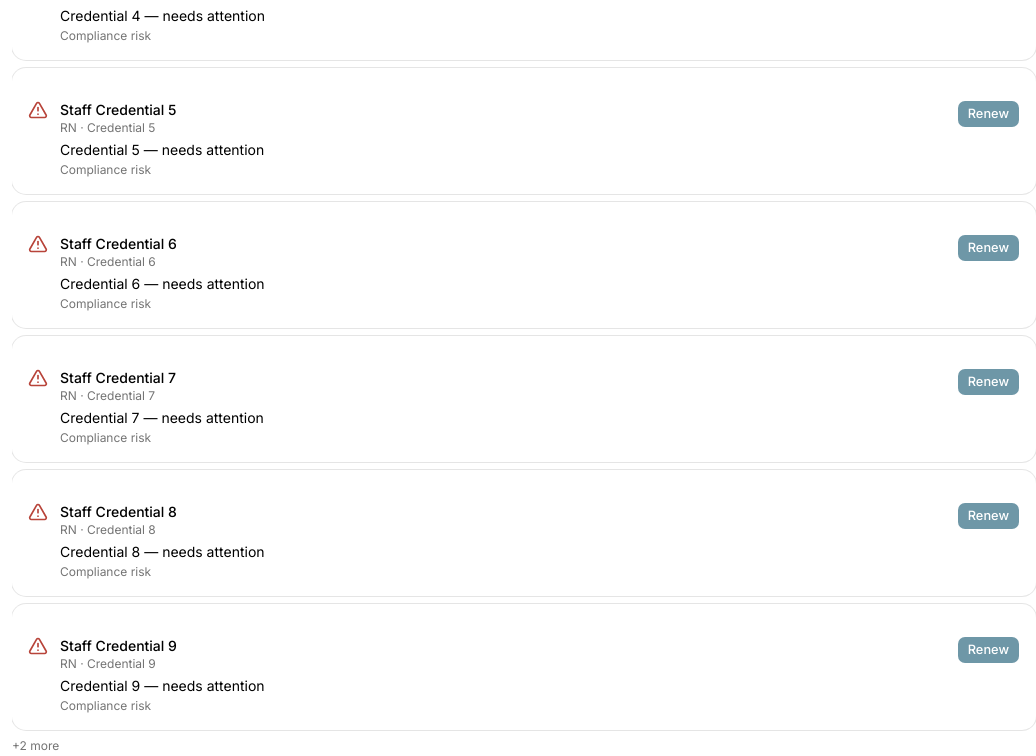
ActionList › caps a group at 10 and expands with +N more, then collapses with Show less
(page scrolled)
Step 1. Click the button "+2 more" → (36, 746), box 12,738 -> 59,754
(page scrolled)
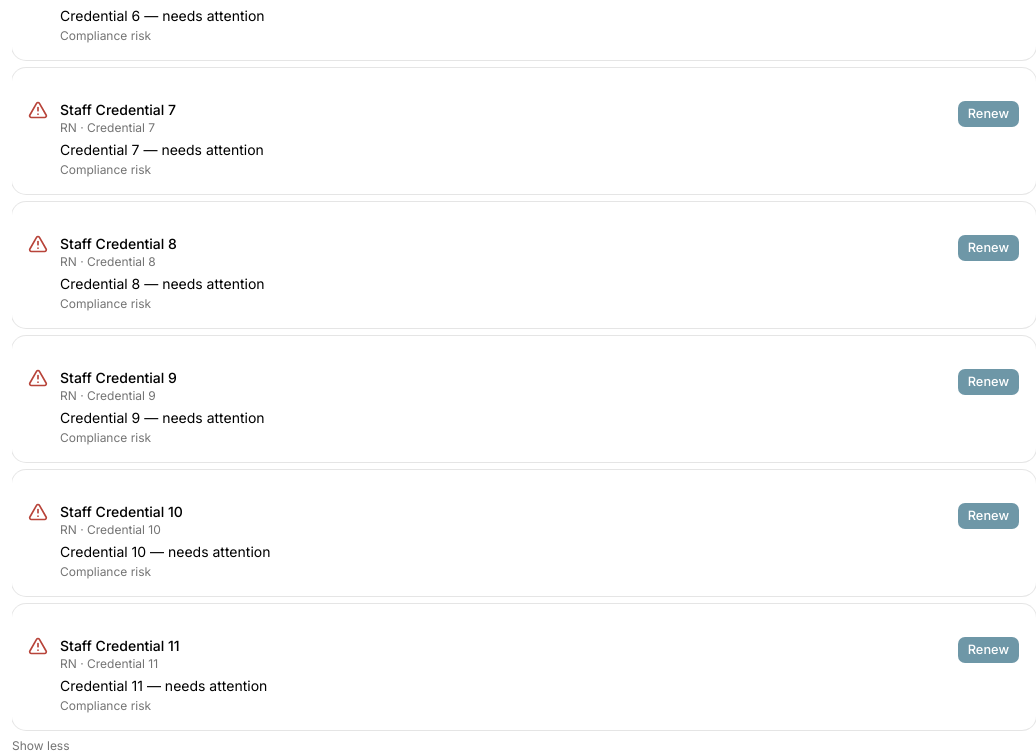
Now the button "Show less" is expanded
Step 2. Click the button "Show less" → (41, 746), box 12,738 -> 70,754
(page scrolled)
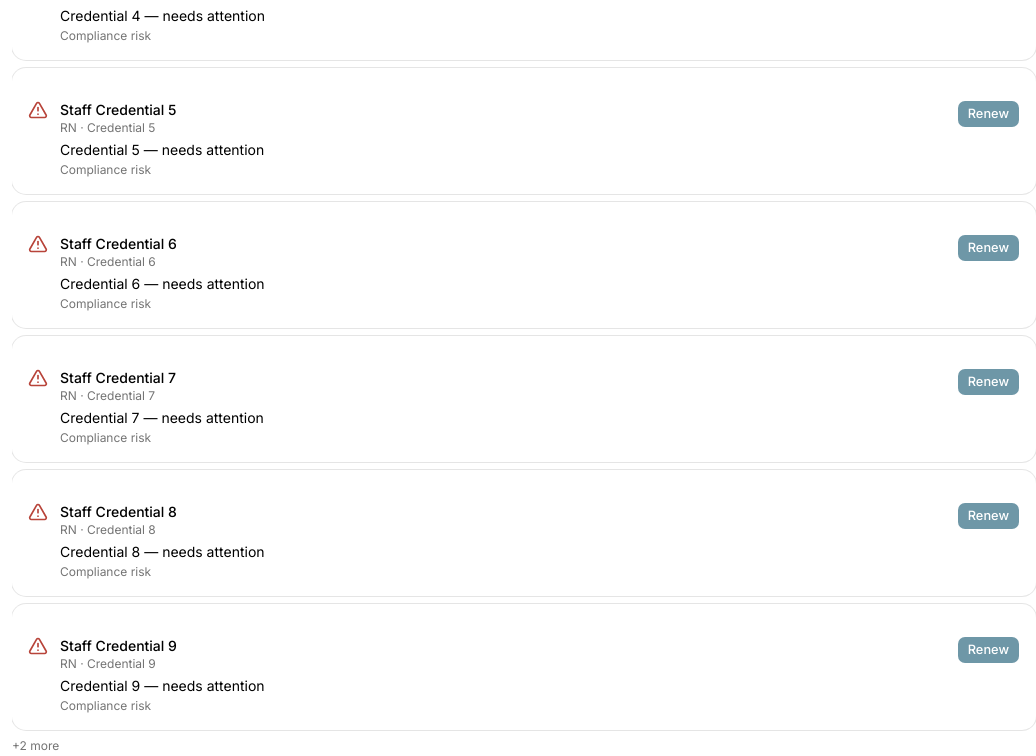
Now the button "+2 more" is shown, box 12,738 -> 59,754
